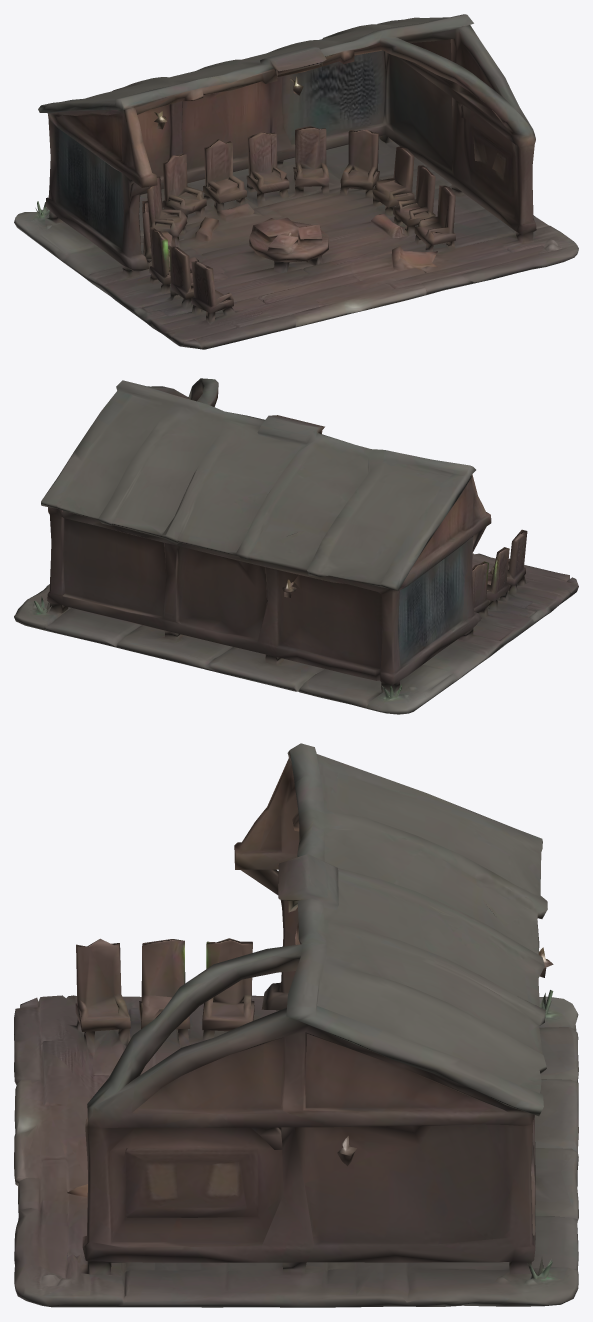
The model's file is traditional_council_interior.glb.
The picture shows the model from 3 angles, top to bottom: view 1: azimuth 30°, elevation 25°; view 2: azimuth 150°, elevation 25°; view 3: azimuth 270°, elevation 25°; orthographic projection. The views are drawn at different scales.
Visible parts, largest first — view 1: tripo_node_55b621aa-fd82-4680-afc5-ff724a31fe8d; view 2: tripo_node_55b621aa-fd82-4680-afc5-ff724a31fe8d; view 3: tripo_node_55b621aa-fd82-4680-afc5-ff724a31fe8d.
Part boxes in pixels (box(x1,y1,x2,y2)): tripo_node_55b621aa-fd82-4680-afc5-ff724a31fe8d: box(14, 14, 578, 349); tripo_node_55b621aa-fd82-4680-afc5-ff724a31fe8d: box(14, 378, 578, 714); tripo_node_55b621aa-fd82-4680-afc5-ff724a31fe8d: box(14, 743, 578, 1307).
Bounding box in the file's own units: 1 × 0.4406 × 0.7878.
Materials: 1 (1 with a texture image).
